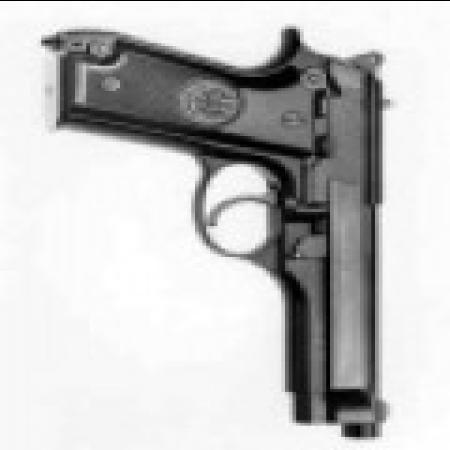Pistol: (53, 25, 402, 439)
